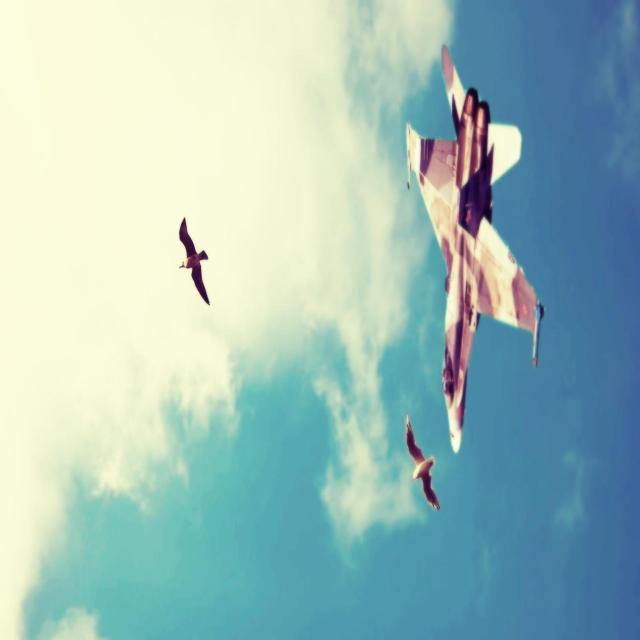airplane: (405, 42, 545, 452)
